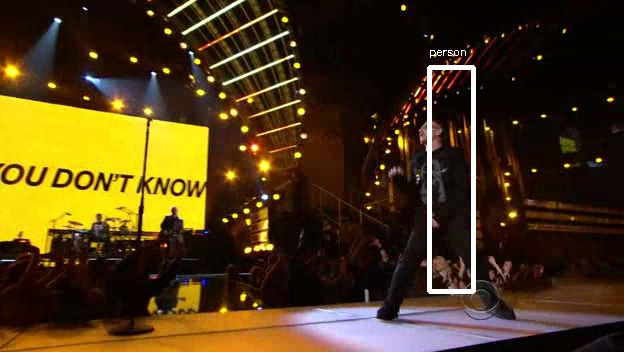person: (404, 119, 470, 228), (401, 119, 467, 228), (407, 119, 473, 228), (404, 116, 470, 225), (404, 122, 470, 231)
target_negative: (151, 114, 300, 289), (71, 195, 476, 250), (222, 281, 542, 330), (248, 314, 470, 327), (452, 293, 498, 345)
